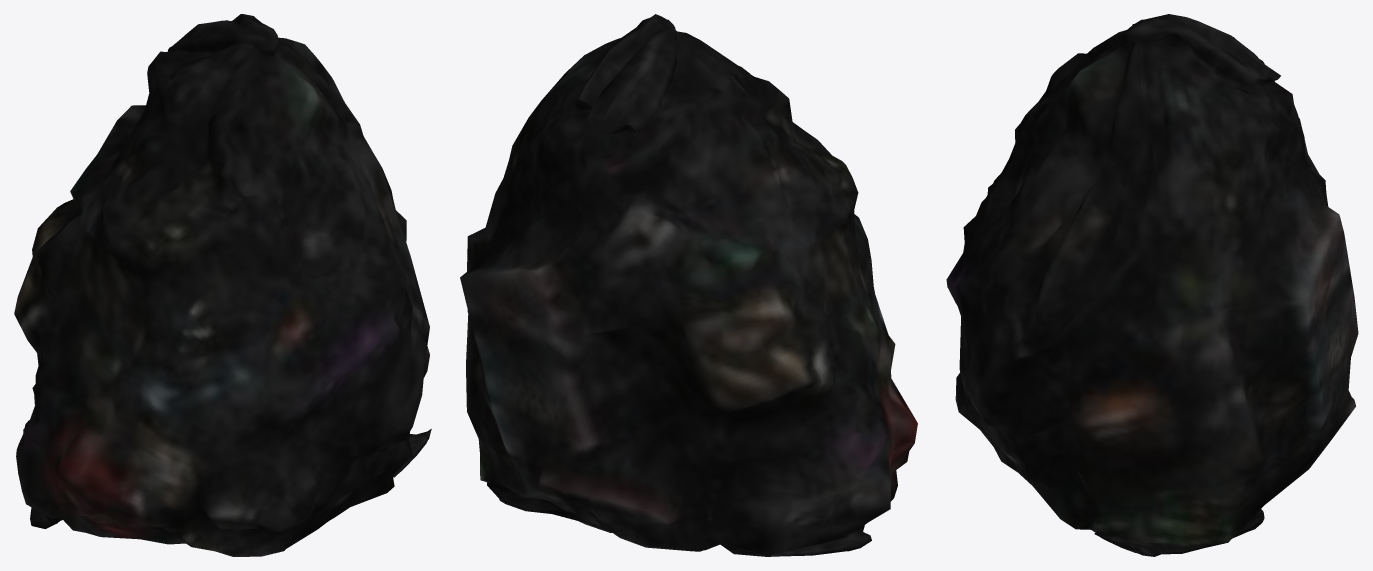
Rendered from trashbag.glb.
3 views of the same model, side by side, from view 1: azimuth 30°, elevation 25°; view 2: azimuth 150°, elevation 25°; view 3: azimuth 270°, elevation 25° (orthographic). The views are drawn at different scales.
Parts seen in each view (by area): view 1: trashbag; view 2: trashbag; view 3: trashbag.
Part boxes in pixels (box(x1,y1,x2,y2)): trashbag: box(14, 14, 431, 556); trashbag: box(460, 14, 917, 556); trashbag: box(946, 14, 1358, 556).
Bounding box in the file's own units: 0.5281 × 0.5747 × 0.4634.
Materials: 1 (1 with a texture image).
